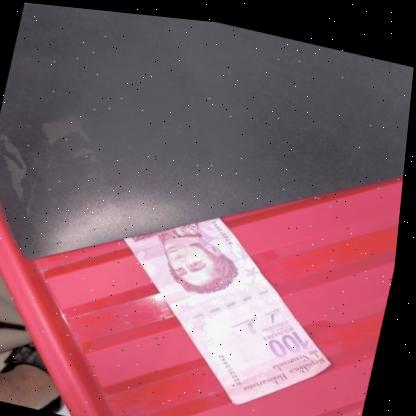one_hundred-front-vef: (98, 190, 363, 416)
